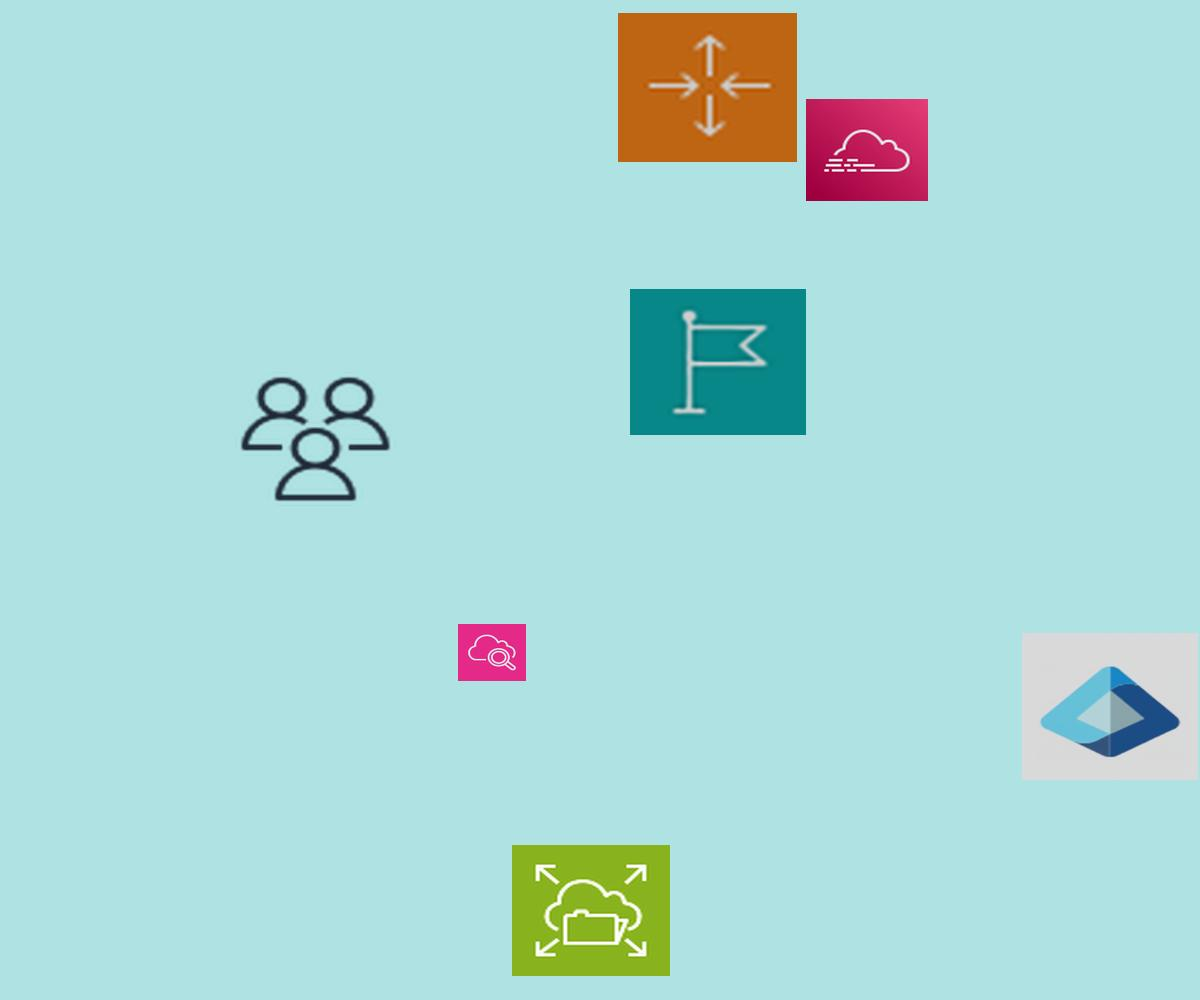AWS-CloudTrail: (806, 99, 928, 201)
AWS-CloudWatch: (458, 624, 526, 681)
AWS-EFS: (512, 845, 670, 976)
AWS-Region: (630, 289, 806, 435)
AWS-Res_Users: (235, 372, 396, 506)
AWS-Scaling-group: (618, 13, 797, 162)
Azure_microsoft_entra: (1022, 633, 1198, 780)
